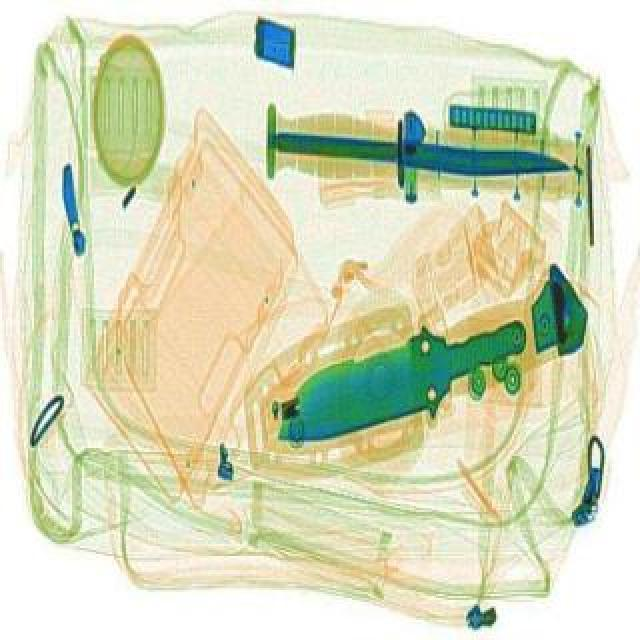knife: (256, 298, 540, 452), (270, 126, 570, 180)
